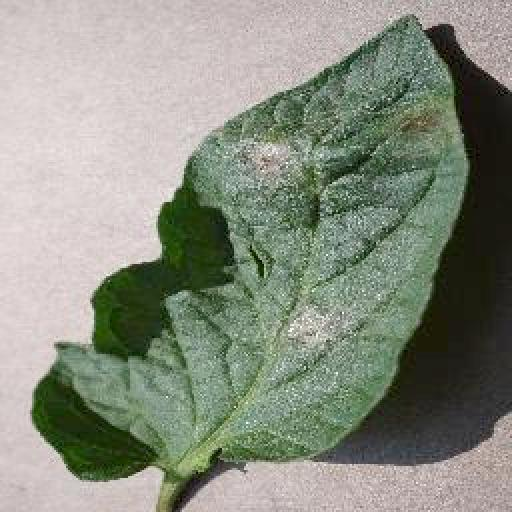disease_tomato: (32, 15, 470, 481)
